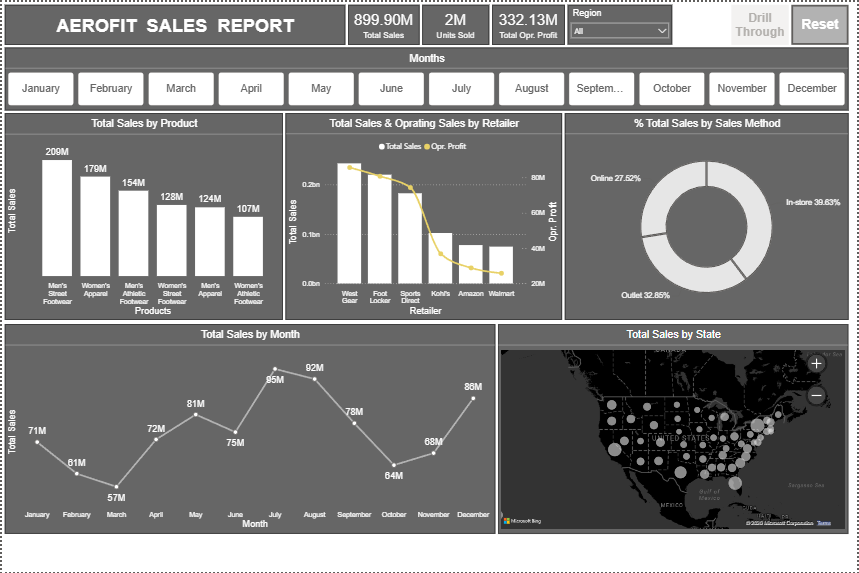

The dashboard page shown, as its layout file describes it:
{"tool":"powerbi","page":{"name":"Summary Page","canvas":[1500,1000],"ordinal":0},"visuals":[{"type":"textbox","box":[5,5,597.5,70],"z":0},{"type":"card","fields":{"Values":["Sum(Adidas Sales.Total Sales)"]},"box":[607,5,125,70],"z":1000},{"type":"card","fields":{"Values":["Sum(Adidas Sales.Units Sold)"]},"box":[737.5,5,117.5,70],"z":2000},{"type":"card","fields":{"Values":["Sum(Adidas Sales.Operating Profit)"]},"box":[860,5,127.5,70],"z":3000},{"type":"advancedSlicerVisual","title":"Months","fields":{"Values":["Date_Master.Date.Variation.Date Hierarchy.Month"]},"box":[5,81,1480,110],"z":4000},{"type":"columnChart","title":"Total Sales by Product","fields":{"Category":["Adidas Sales.Product"],"Y":["Sum(Adidas Sales.Total Sales)"]},"box":[5,195,487.5,362.5],"z":5000},{"type":"lineStackedColumnComboChart","title":"Total Sales & Oprating Sales by Retailer","fields":{"Y":["Sum(Adidas Sales.Total Sales)"],"Y2":["Sum(Adidas Sales.Operating Profit)"],"Category":["Adidas Sales.Retailer"]},"box":[497,195,485,362.5],"z":6000},{"type":"donutChart","title":"% Total Sales by Sales Method","fields":{"Category":["Adidas Sales.Sales Method"],"Y":["Sum(Adidas Sales.Total Sales)"]},"box":[987.2,195.7,497.9,363.8],"z":7000},{"type":"lineChart","fields":{"Category":["Date_Master.Date.Variation.Date Hierarchy.Year","Date_Master.Date.Variation.Date Hierarchy.Quarter","Date_Master.Date.Variation.Date Hierarchy.Month","Date_Master.Date.Variation.Date Hierarchy.Day"],"Y":["Sum(Adidas Sales.Total Sales)"]},"box":[4.3,566,638.3,419.1],"z":8000},{"type":"map","fields":{"Category":["Adidas Sales.State"],"Size":["Sum(Adidas Sales.Total Sales)"]},"box":[987.2,566,497.9,419.1],"z":9000},{"type":"actionButton","box":[1384.3,5.7,100,70],"z":10000},{"type":"slicer","fields":{"Values":["Adidas_Sales.Region"]},"box":[992.8,4.1,114.4,71.5],"z":11000},{"type":"actionButton","box":[1173,6.1,100.1,69.5],"z":12000},{"type":"actionButton","box":[1277,6.1,100.1,69.5],"z":13000},{"type":"pieChart","fields":{"Category":["Adidas_Sales.Region"],"Y":["Sum(Adidas_Sales.Total Sales)"]},"box":[646.8,566,336.2,419.1],"z":14000}]}

Visuals, with their boxes in screenshot pixels (x1, y1, x2, y2), scaled from the page's 1500x1000 canvas onto the 859x573 screenshot:
textbox: box=[3, 3, 345, 43]
card - Sum(Adidas Sales.Total Sales): box=[348, 3, 419, 43]
card - Sum(Adidas Sales.Units Sold): box=[422, 3, 490, 43]
card - Sum(Adidas Sales.Operating Profit): box=[492, 3, 566, 43]
"Months" advancedSlicerVisual: box=[3, 46, 850, 109]
"Total Sales by Product" columnChart: box=[3, 112, 282, 319]
"Total Sales & Oprating Sales by Retailer" lineStackedColumnComboChart: box=[285, 112, 562, 319]
"% Total Sales by Sales Method" donutChart: box=[565, 112, 850, 321]
lineChart - Date_Master.Date.Variation.Date Hierarchy.Year x Date_Master.Date.Variation.Date Hierarchy.Quarter: box=[2, 324, 368, 564]
map - Adidas Sales.State x Sum(Adidas Sales.Total Sales): box=[565, 324, 850, 564]
actionButton: box=[793, 3, 850, 43]
slicer - Adidas_Sales.Region: box=[569, 2, 634, 43]
actionButton: box=[672, 3, 729, 43]
actionButton: box=[731, 3, 789, 43]
pieChart - Adidas_Sales.Region x Sum(Adidas_Sales.Total Sales): box=[370, 324, 563, 564]
